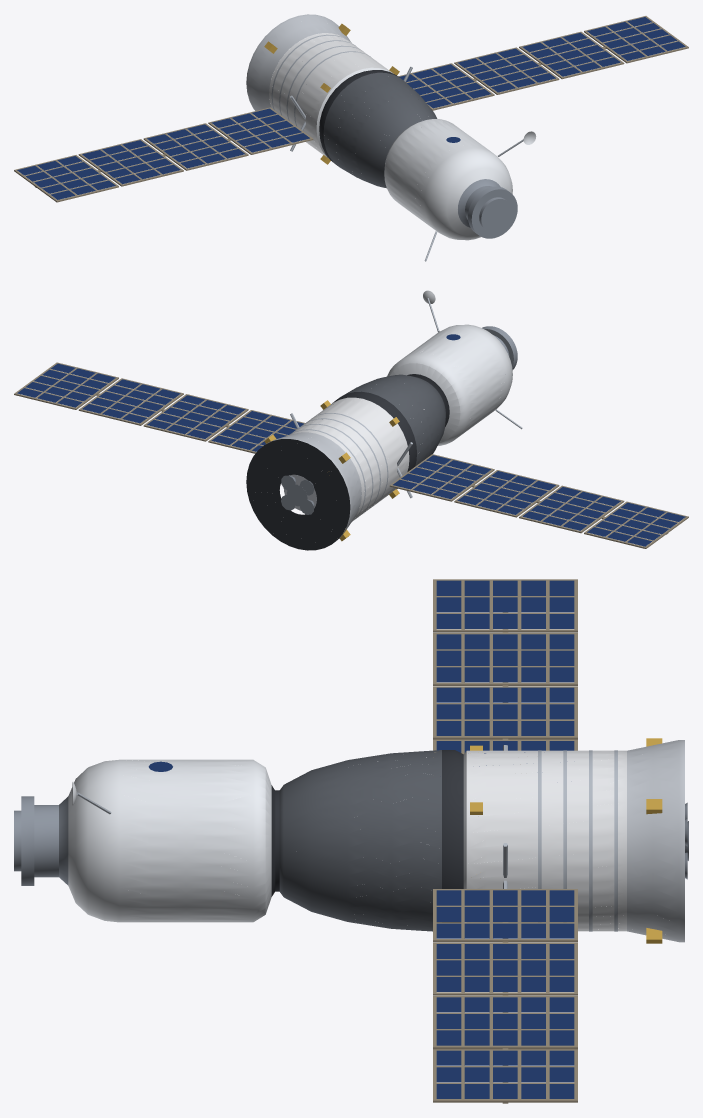
File: shenzhou.glb
3 views of the same model, one above another, from view 1: azimuth 30°, elevation 25°; view 2: azimuth 150°, elevation 25°; view 3: azimuth 270°, elevation 25° (orthographic). The views are drawn at different scales.
Visible parts, largest first — view 1: body, solar-panel, foil; view 2: body, solar-panel, foil; view 3: body, solar-panel, foil.
Part boxes in pixels (x1,y1,x2,y2): body: (14,16,688,261); solar-panel: (17,17,685,199); foil: (246,14,351,114); body: (14,290,688,550); solar-panel: (17,334,685,546); foil: (265,432,361,542); body: (14,579,688,1103); solar-panel: (148,580,574,1098); foil: (627,740,684,942).
Bounding box in the file's own units: 17 × 2.92 × 9.3.
